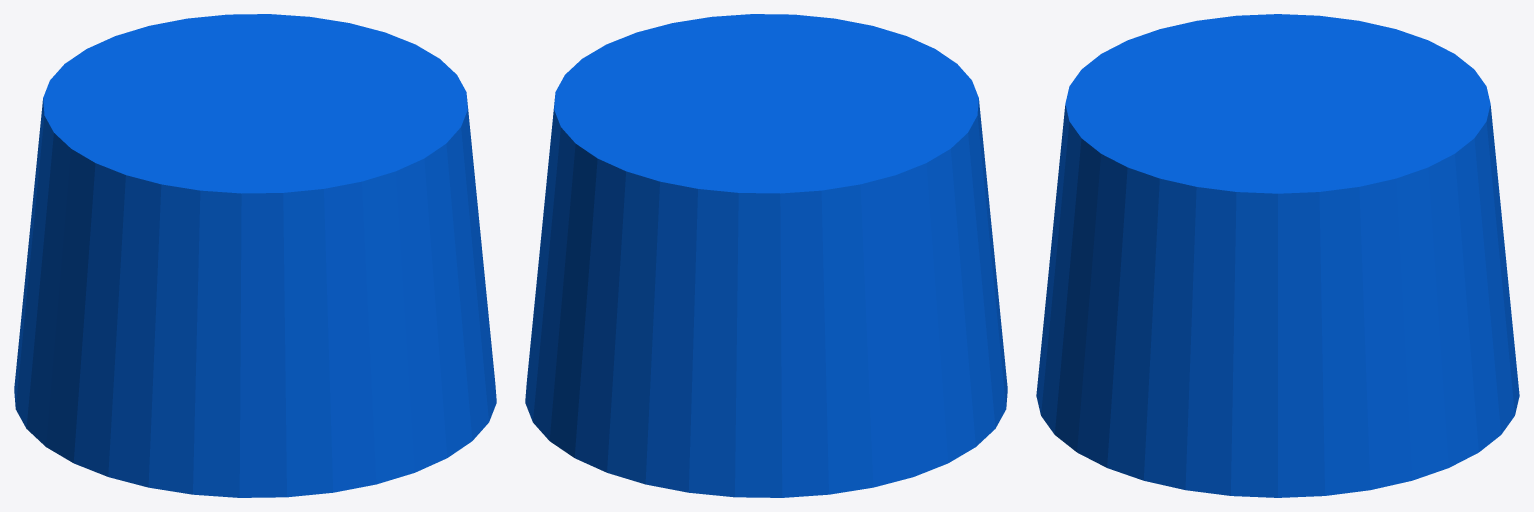
Rendered from dedal.glb.
3 renders of one model, left to right at view 1: azimuth 30°, elevation 25°; view 2: azimuth 150°, elevation 25°; view 3: azimuth 270°, elevation 25°, orthographic.
Visible parts, largest first — view 1: Thimble_Mesh; view 2: Thimble_Mesh; view 3: Thimble_Mesh.
Part boxes in pixels (<box>): Thimble_Mesh: <box>14,14,496,497</box>; Thimble_Mesh: <box>525,14,1007,497</box>; Thimble_Mesh: <box>1036,14,1519,497</box>.
Bounding box in the file's own units: 0.18 × 0.12 × 0.18.
